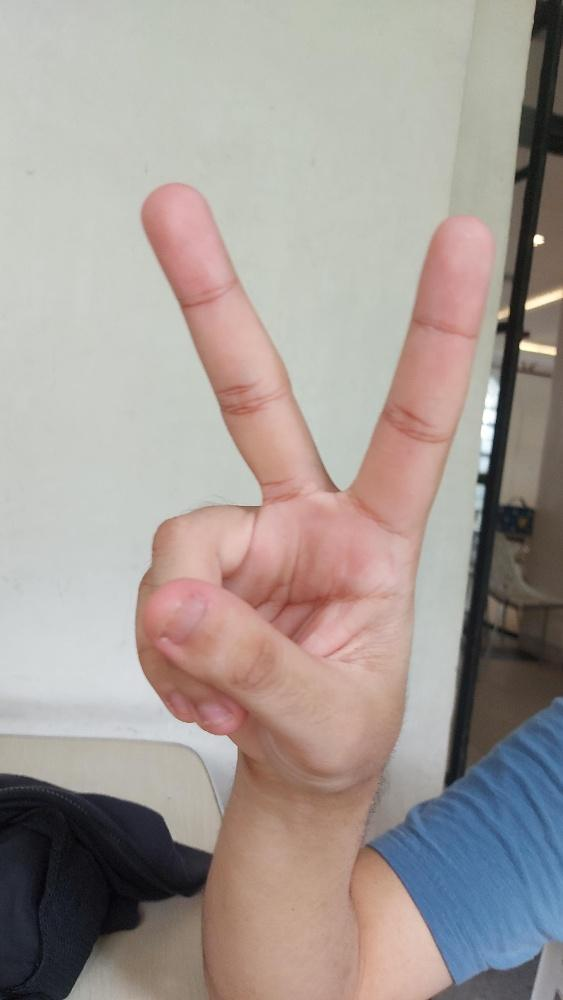v: (134, 181, 493, 793)
